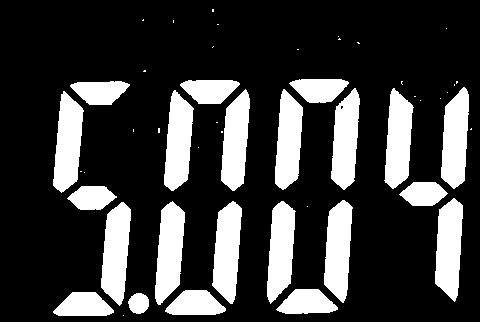0: (153, 72, 254, 319), (265, 76, 365, 317)
4: (379, 81, 475, 306)
5: (47, 75, 139, 318)
dot: (127, 290, 150, 315)
